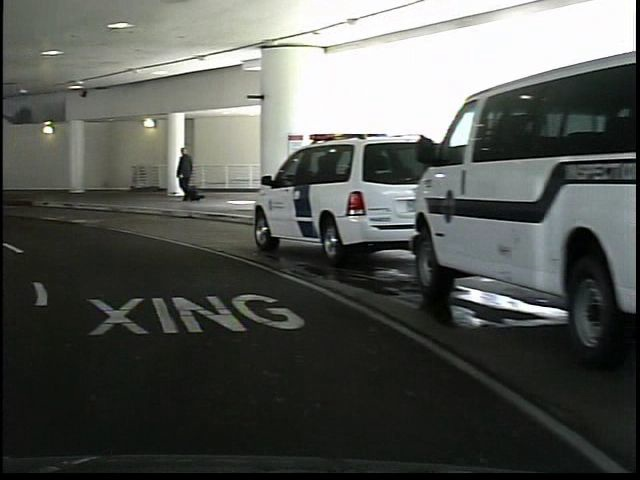person: (170, 145, 195, 205)
